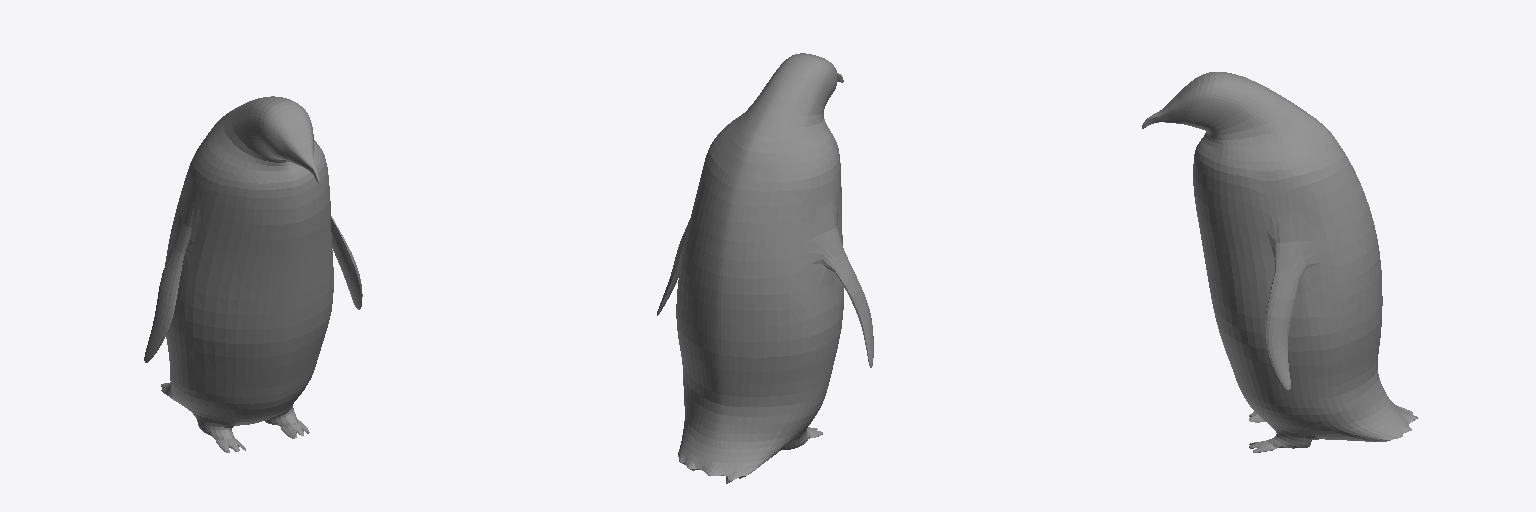
File: penguin.obj
3 renders of one model, left to right at view 1: azimuth 30°, elevation 25°; view 2: azimuth 150°, elevation 25°; view 3: azimuth 270°, elevation 25°, orthographic.
Visible parts, largest first — view 1: Penguin_Cylinder; view 2: Penguin_Cylinder; view 3: Penguin_Cylinder.
Boxes of the visible parts, x1,y1,x2,y2 form: Penguin_Cylinder: [144, 96, 362, 452]; Penguin_Cylinder: [657, 53, 873, 483]; Penguin_Cylinder: [1142, 72, 1417, 452].
Size of the model in its own units: 7.5 by 11.89 by 8.36.